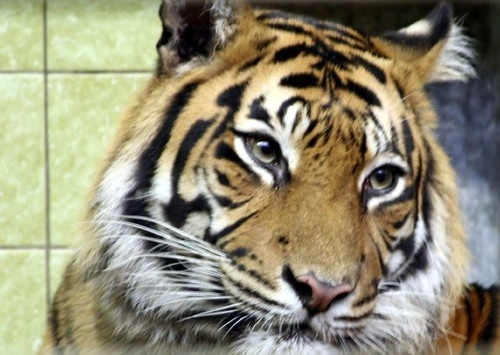tigre: (33, 1, 468, 353)
